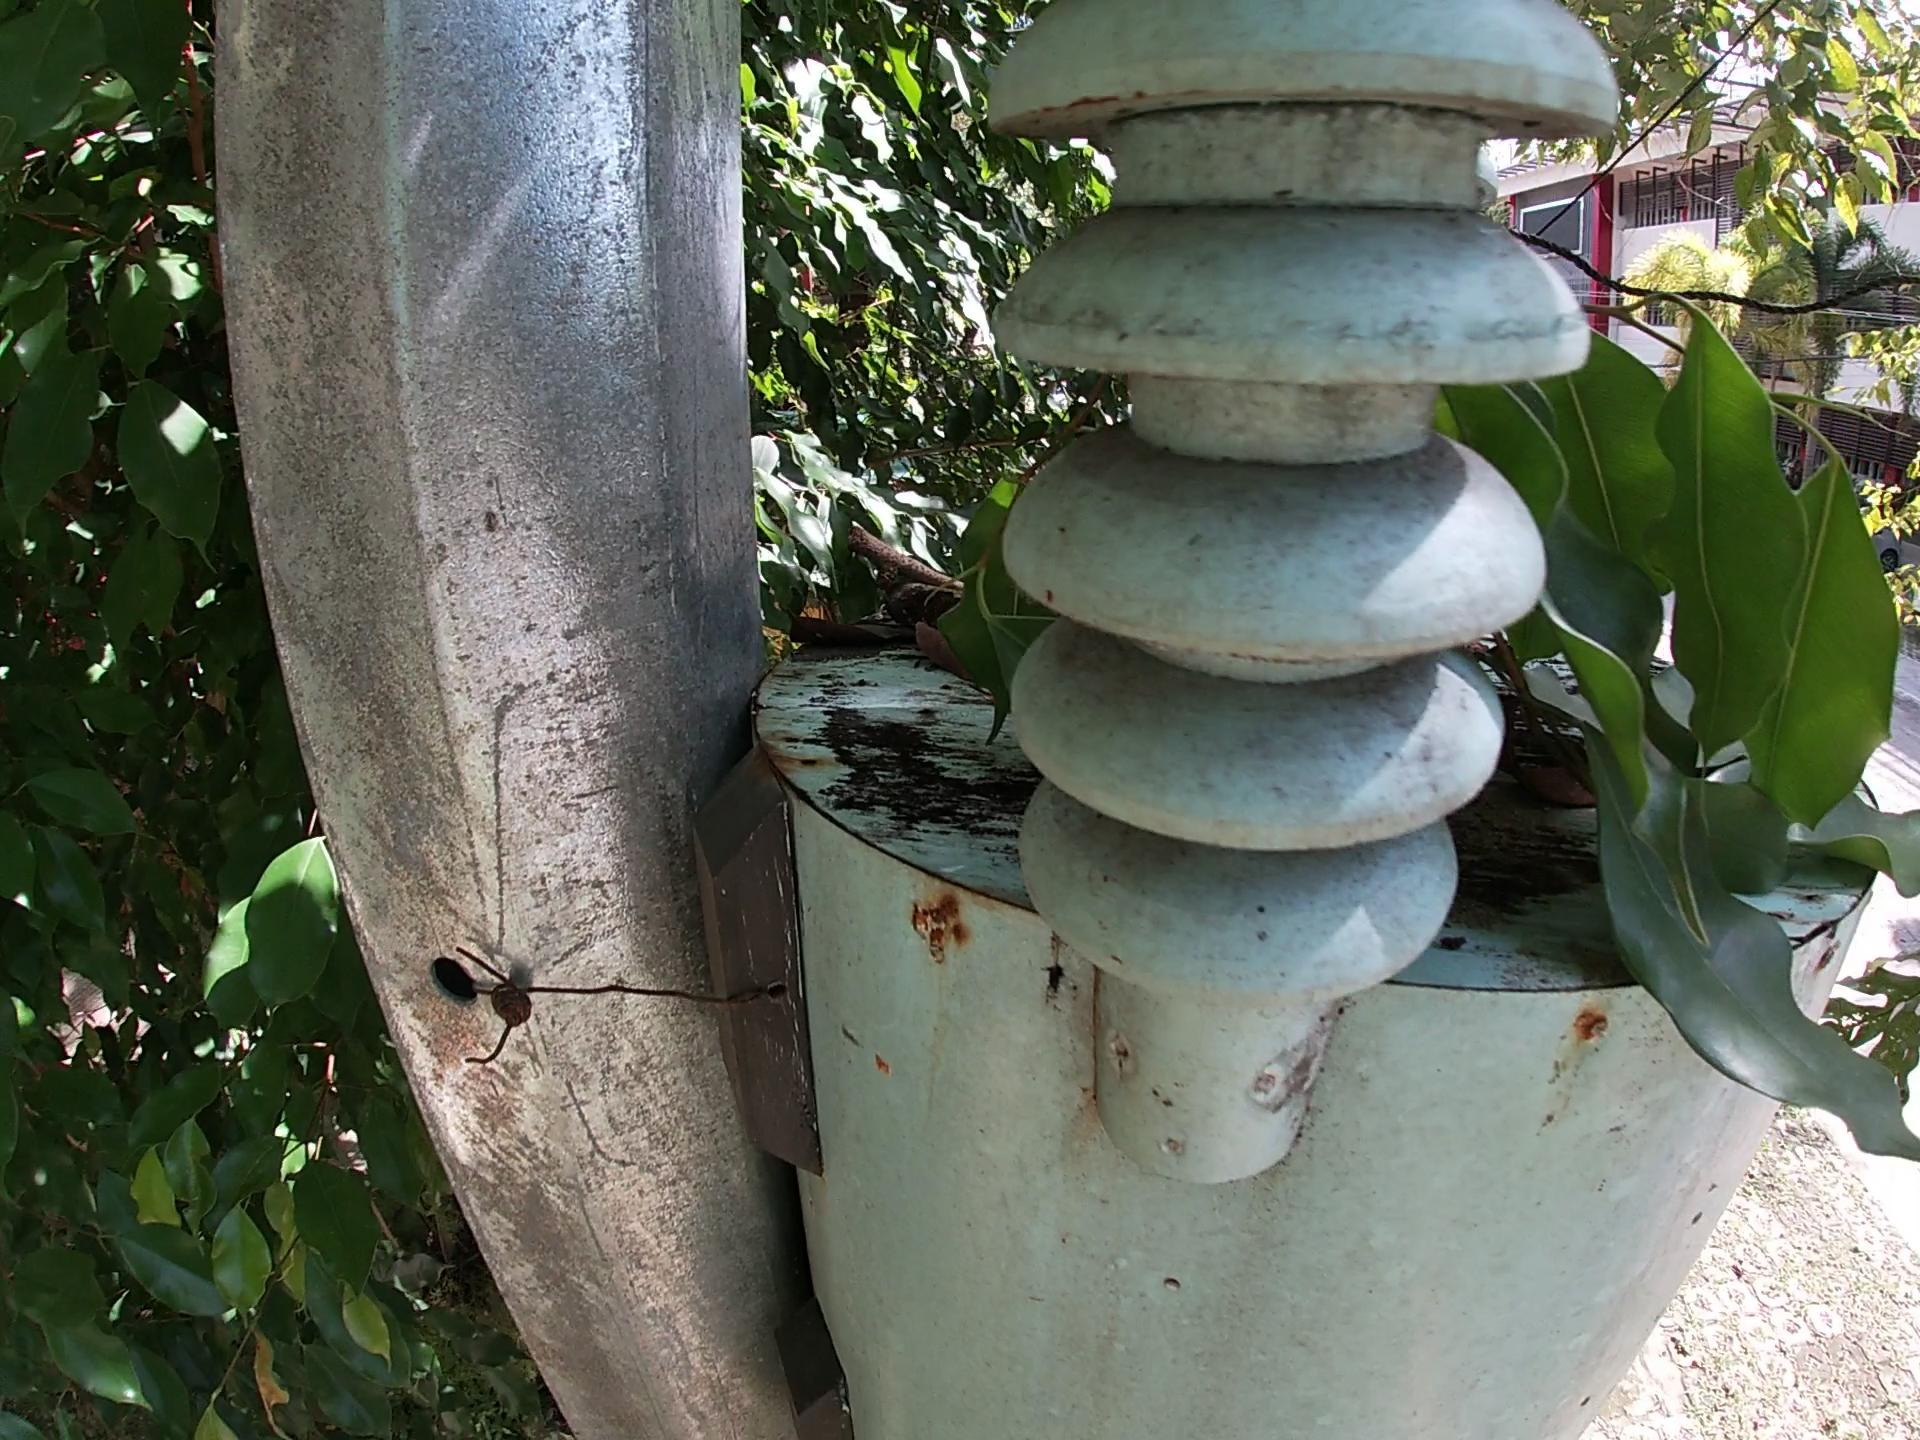branch with leaves: (1450, 247, 1915, 1177), (931, 430, 1039, 746)
leaf: (774, 604, 898, 675), (903, 628, 980, 681)
tree branch: (821, 513, 966, 579), (878, 587, 986, 628)
